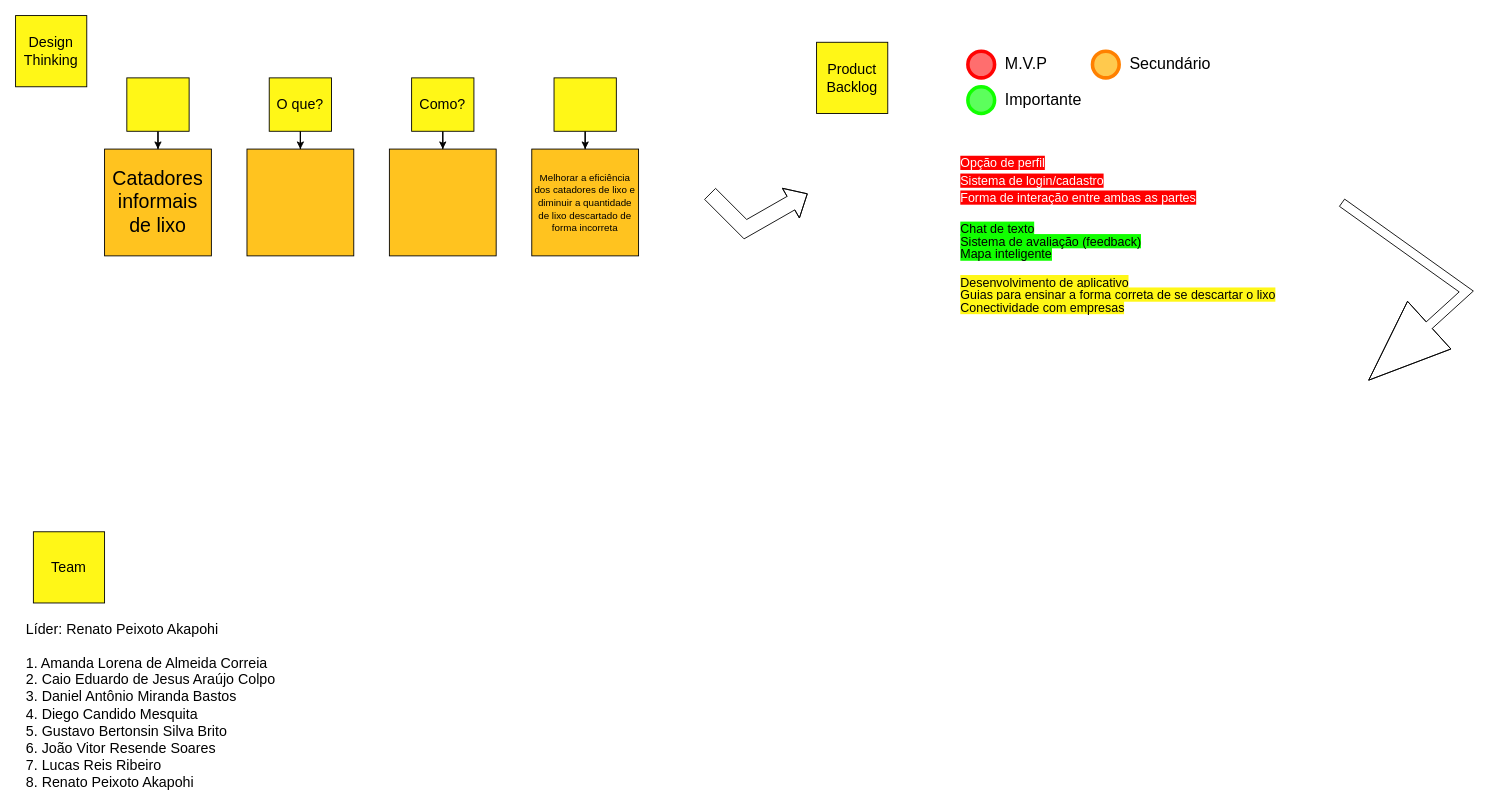
Some shapes in this 1489 by 806 pixel diagram are drawn without their labels. Here are the shapes that lost their labels. From the top down, the centre of each, then its label:
At point 157,104: "Quem?".
At point 584,104: "Por que?".
At point 300,202: "Software auto sustentável para conexão de ambas as partes".
At point 442,202: "Conexão de catadores de lixo a possíveis clientes".
